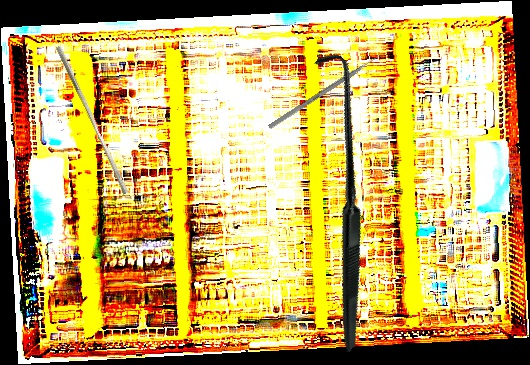Hook Surgical: (186, 46, 491, 353)
Pusher: (49, 45, 135, 195), (267, 49, 388, 130)
